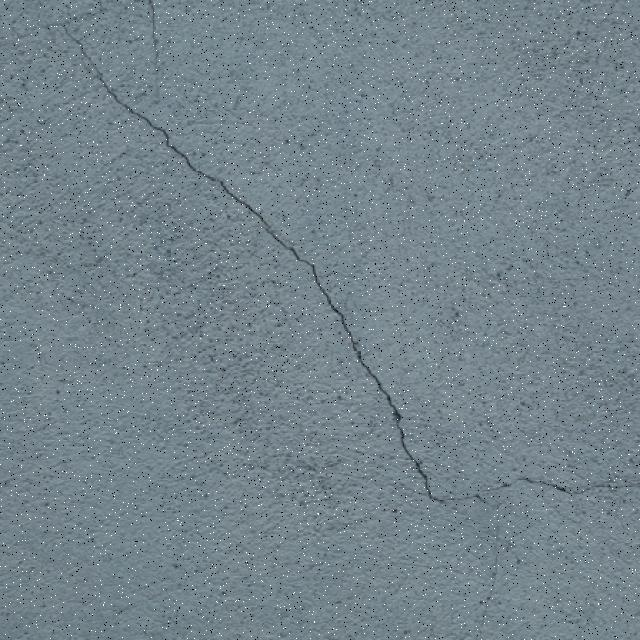Crack: (59, 10, 602, 521)
